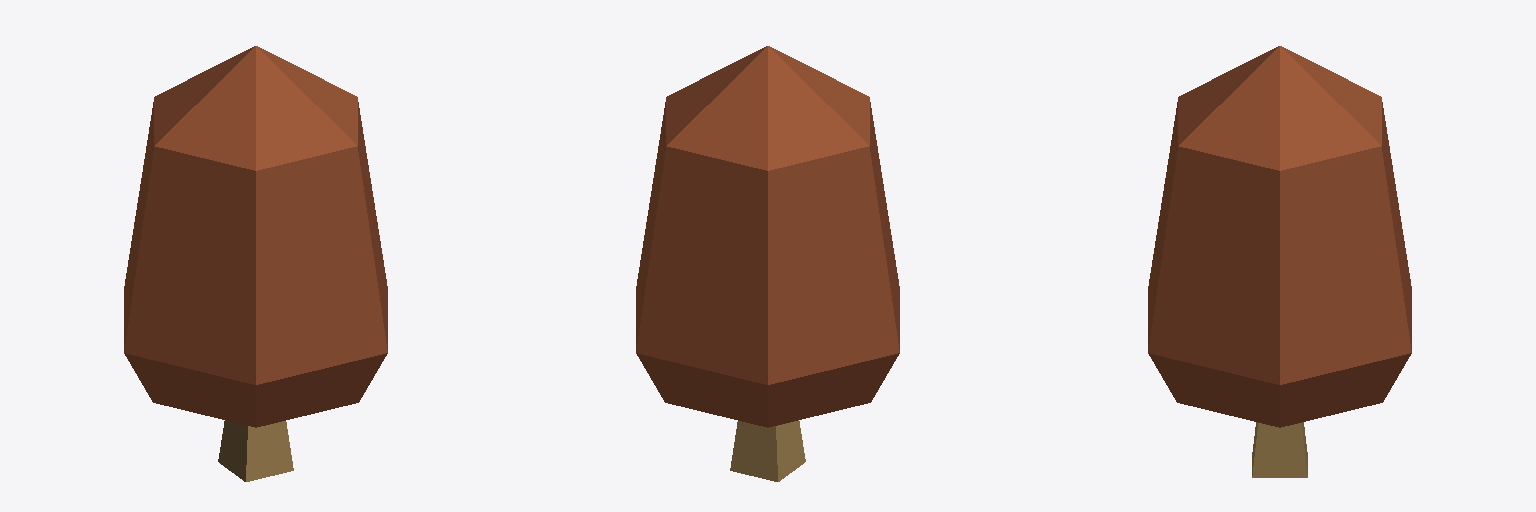
File: Large_Oak_Fall_01.obj
The picture shows the model from 3 angles: view 1: azimuth 30°, elevation 25°; view 2: azimuth 150°, elevation 25°; view 3: azimuth 270°, elevation 25°; orthographic projection.
Visible parts, largest first — view 1: Mesh1_Large_Oak_Fall_Model; view 2: Mesh1_Large_Oak_Fall_Model; view 3: Mesh1_Large_Oak_Fall_Model.
Boxes of the visible parts, x1=… form: Mesh1_Large_Oak_Fall_Model: x1=124, y1=46, x2=387, y2=481; Mesh1_Large_Oak_Fall_Model: x1=636, y1=46, x2=899, y2=481; Mesh1_Large_Oak_Fall_Model: x1=1148, y1=46, x2=1411, y2=477.
Bounding box in the file's own units: 3.02 × 4.6 × 2.62.